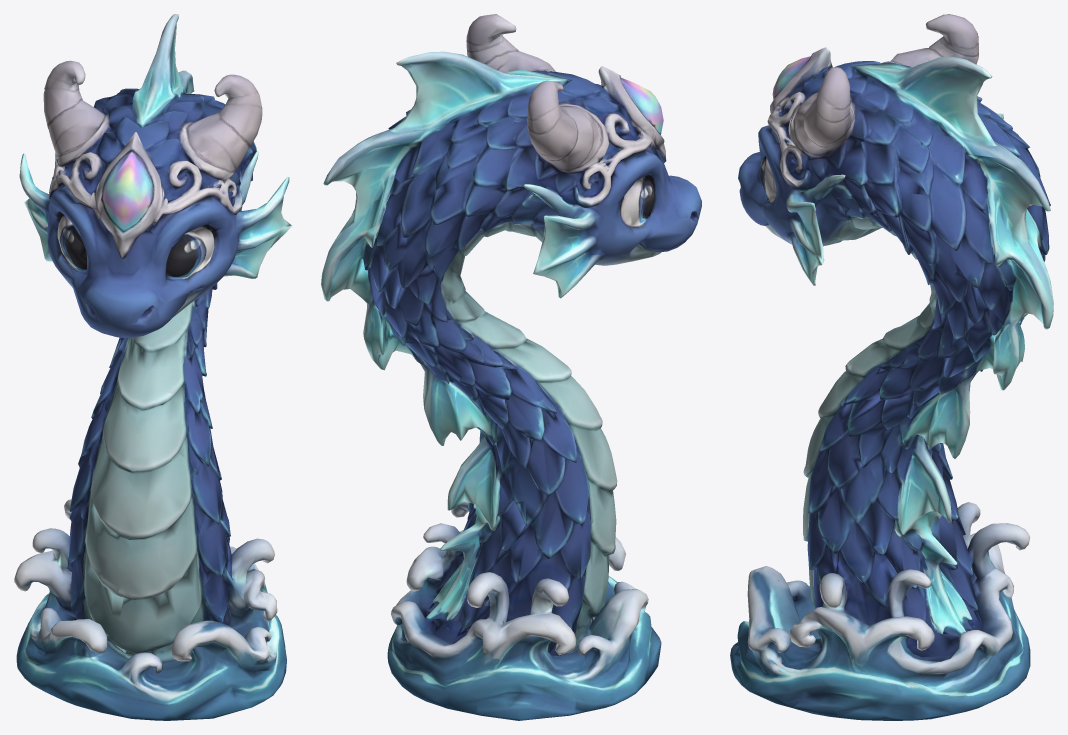
File: tide-wyrm.medium.glb
3 views of the same model, side by side, from view 1: azimuth 30°, elevation 25°; view 2: azimuth 150°, elevation 25°; view 3: azimuth 270°, elevation 25° (orthographic). The views are drawn at different scales.
Visible parts, largest first — view 1: tripo_node_d5b779f7-3458-45ea-9ca6-f5cb053293c6; view 2: tripo_node_d5b779f7-3458-45ea-9ca6-f5cb053293c6; view 3: tripo_node_d5b779f7-3458-45ea-9ca6-f5cb053293c6.
Part boxes in pixels (x1,y1,x2,y2): tripo_node_d5b779f7-3458-45ea-9ca6-f5cb053293c6: (14,14,292,720); tripo_node_d5b779f7-3458-45ea-9ca6-f5cb053293c6: (321,14,701,720); tripo_node_d5b779f7-3458-45ea-9ca6-f5cb053293c6: (730,14,1053,720).
Bounding box in the file's own units: 1.01 × 2.4 × 1.11.
Materials: 1 (1 with a texture image).
